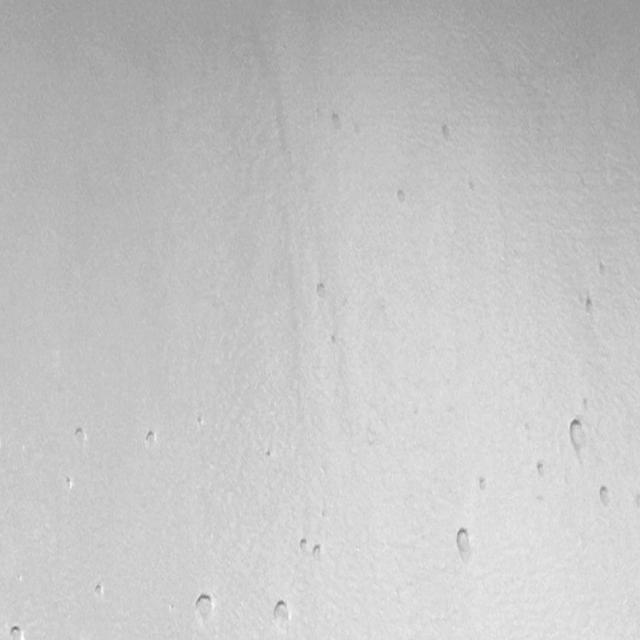pin holes: (564, 416, 588, 455), (192, 592, 218, 627), (451, 528, 474, 561), (270, 597, 293, 629), (438, 122, 458, 146), (597, 484, 614, 511), (73, 424, 91, 448), (536, 461, 552, 483), (328, 112, 344, 134), (314, 280, 328, 304), (582, 296, 598, 317), (143, 430, 158, 449), (298, 536, 312, 556), (93, 582, 108, 600), (396, 188, 410, 207), (9, 624, 26, 639), (63, 474, 75, 494), (310, 541, 324, 558), (328, 332, 341, 350), (595, 261, 608, 278), (477, 476, 489, 492), (195, 413, 207, 429), (264, 446, 276, 461)
